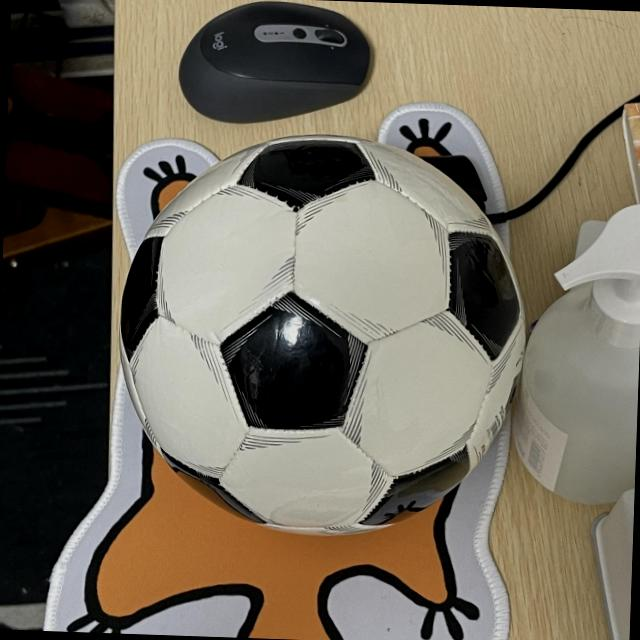Soccer Ball: (110, 124, 532, 543)
